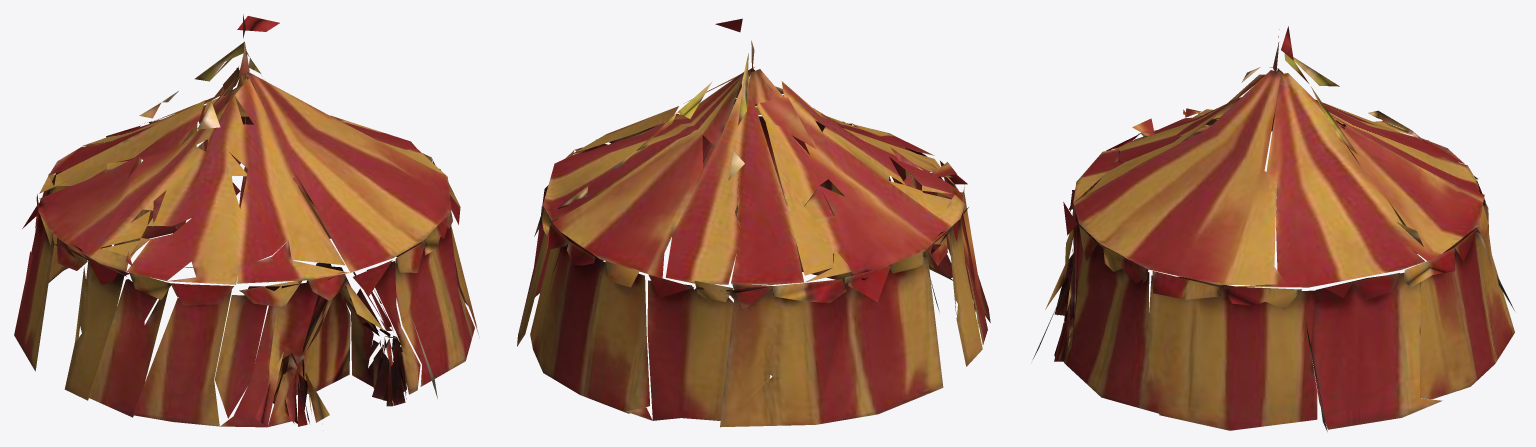
The model's file is jahrmarkt_zelt_lo.glb.
The picture shows the model from 3 angles, left to right: view 1: azimuth 30°, elevation 25°; view 2: azimuth 150°, elevation 25°; view 3: azimuth 270°, elevation 25°; orthographic projection.
Visible parts, largest first — view 1: Prop; view 2: Prop; view 3: Prop.
Boxes of the visible parts, box(x1,y1,x2,y2) form: Prop: box(14, 14, 478, 427); Prop: box(517, 18, 990, 427); Prop: box(1032, 26, 1514, 431).
Bounding box in the file's own units: 1.32 × 1.01 × 1.37.
1 material, 1 textured.
